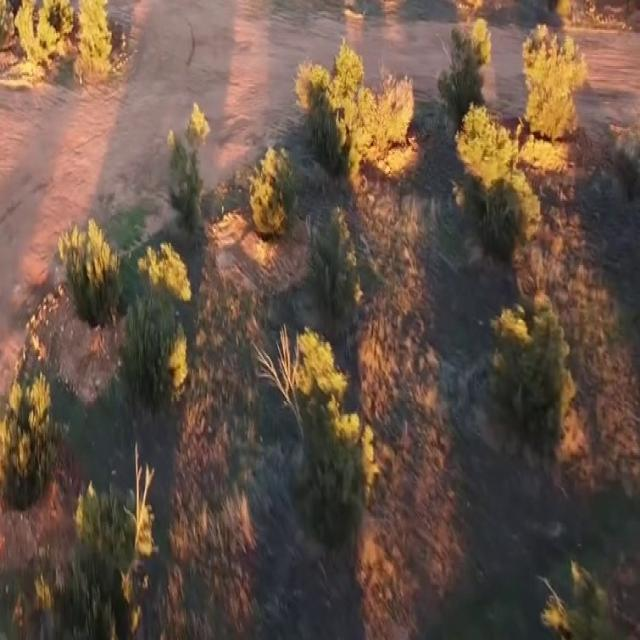trees: (273, 328, 376, 522), (120, 245, 197, 411), (490, 294, 571, 447), (2, 366, 62, 506), (528, 25, 588, 138), (440, 21, 500, 125), (67, 217, 116, 341), (308, 212, 360, 324), (305, 89, 359, 189), (173, 101, 211, 239), (249, 144, 299, 229), (466, 112, 517, 190), (369, 72, 415, 157), (77, 0, 115, 74)
